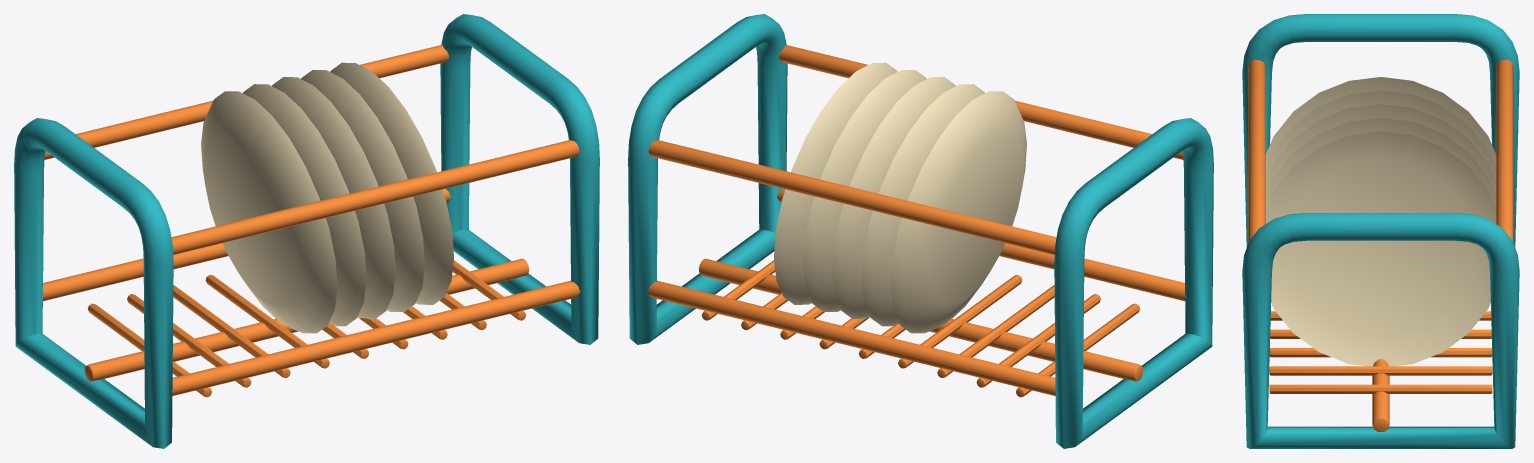
Rendered from escorredor_pratos.glb.
3 renders of one model, left to right at view 1: azimuth 30°, elevation 25°; view 2: azimuth 150°, elevation 25°; view 3: azimuth 270°, elevation 25°, orthographic. The views are drawn at different scales.
Visible parts, largest first — view 1: escorredor_pratos; view 2: escorredor_pratos; view 3: escorredor_pratos.
Boxes of the visible parts, x1=… form: escorredor_pratos: x1=14, y1=14, x2=599, y2=448; escorredor_pratos: x1=628, y1=14, x2=1213, y2=448; escorredor_pratos: x1=1242, y1=14, x2=1519, y2=448.
Bounding box in the file's own units: 0.404 × 0.22 × 0.224.
1 material, 1 textured.
